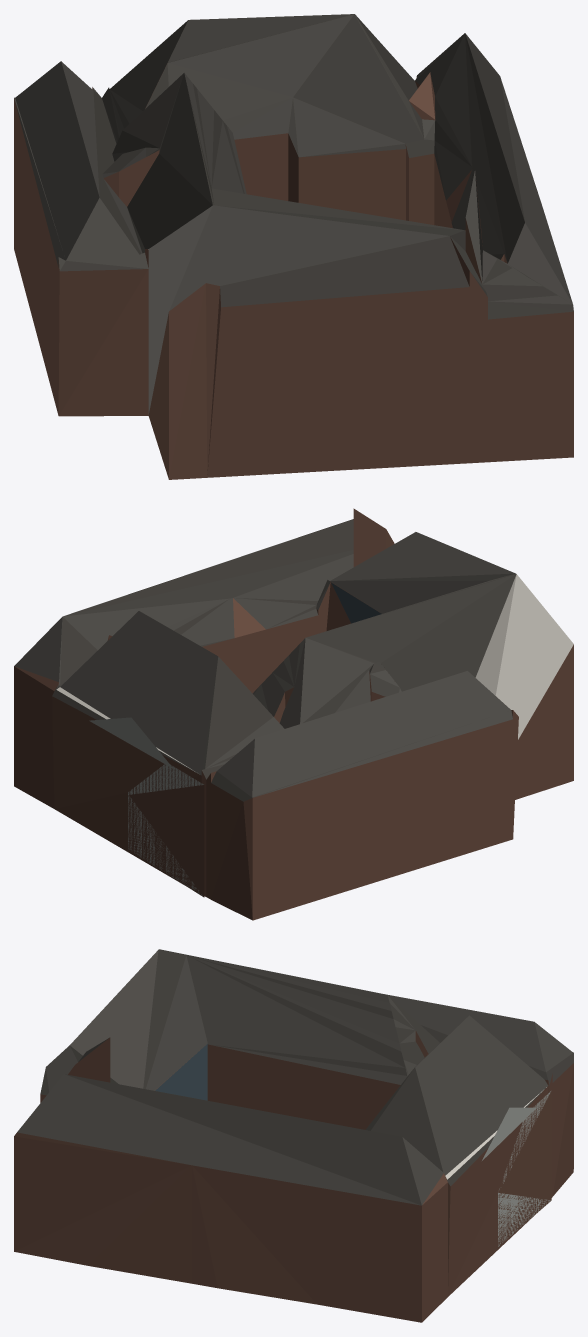
File: west-india-house.lod2.glb
3 renders of one model, top to bottom at view 1: azimuth 30°, elevation 25°; view 2: azimuth 150°, elevation 25°; view 3: azimuth 270°, elevation 25°, orthographic. The views are drawn at different scales.
Parts seen in each view (by area): view 1: lod2; view 2: lod2; view 3: lod2.
Part boxes in pixels (x1,y1,x2,y2): lod2: (14, 14, 573, 479); lod2: (14, 508, 573, 920); lod2: (14, 949, 573, 1322).
Bounding box in the file's own units: 36.75 × 16.7 × 42.38.
